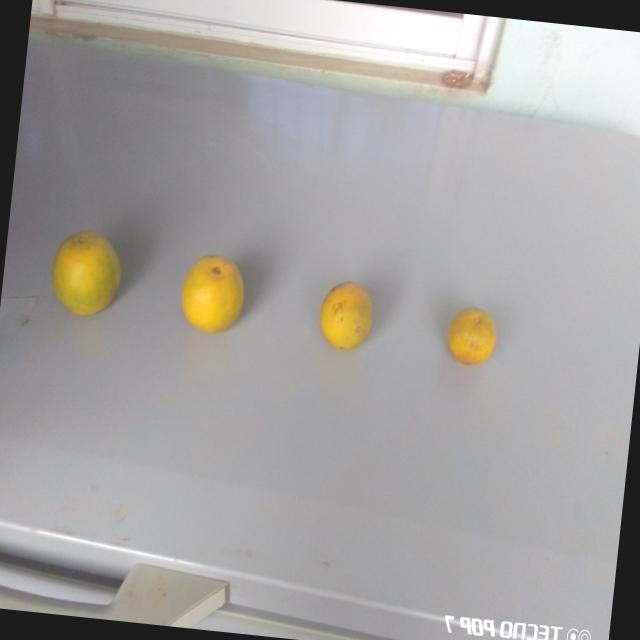agrume: (40, 225, 125, 323), (175, 247, 252, 340), (314, 274, 379, 358), (441, 297, 500, 373)
